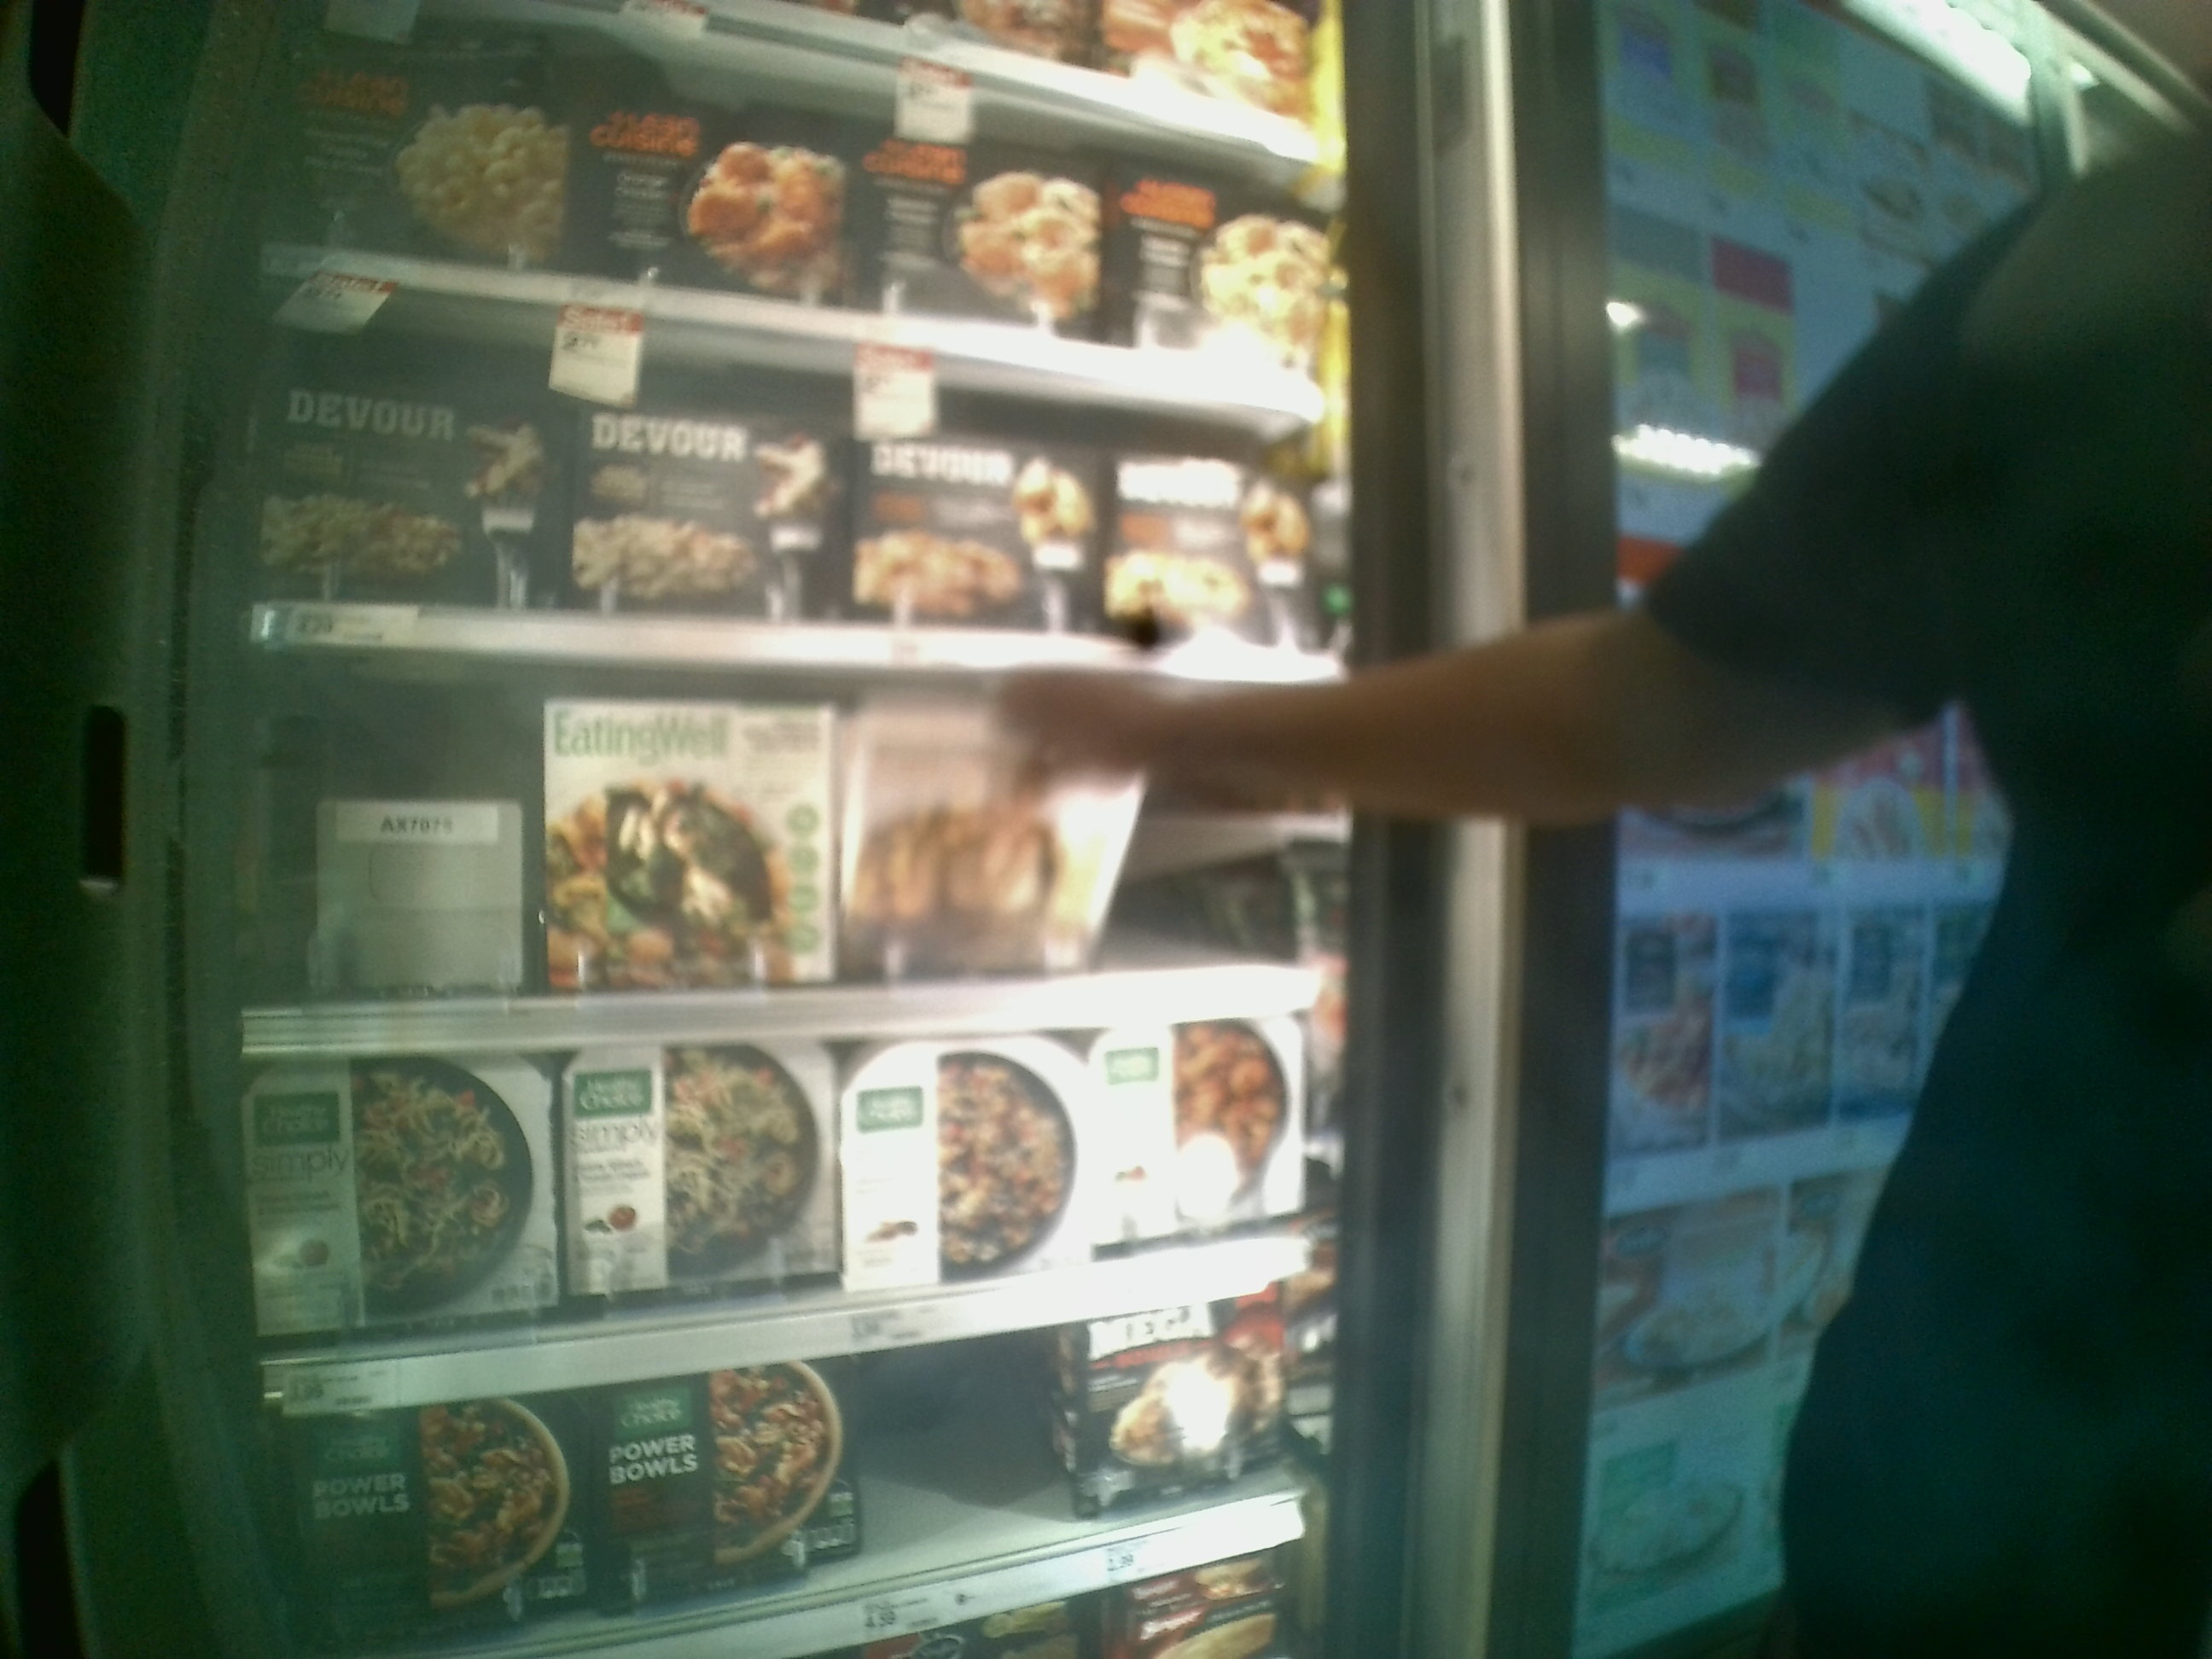shelf: (244, 995, 1338, 1417), (249, 260, 1353, 673)
